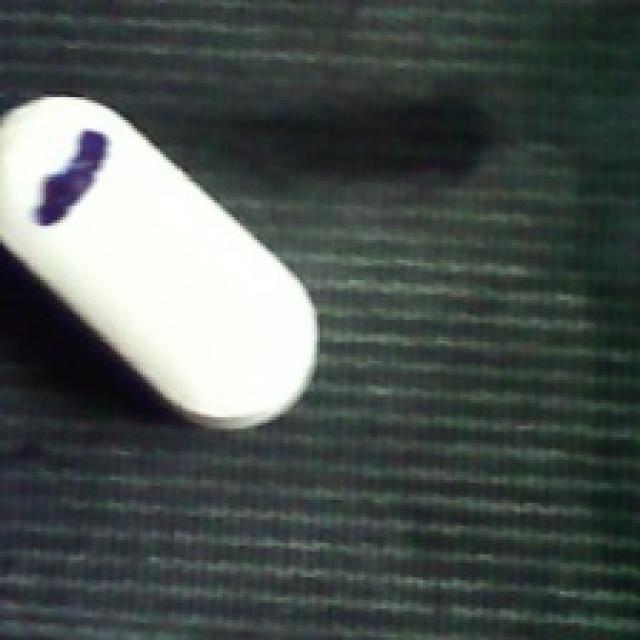defected: (0, 92, 323, 440)
